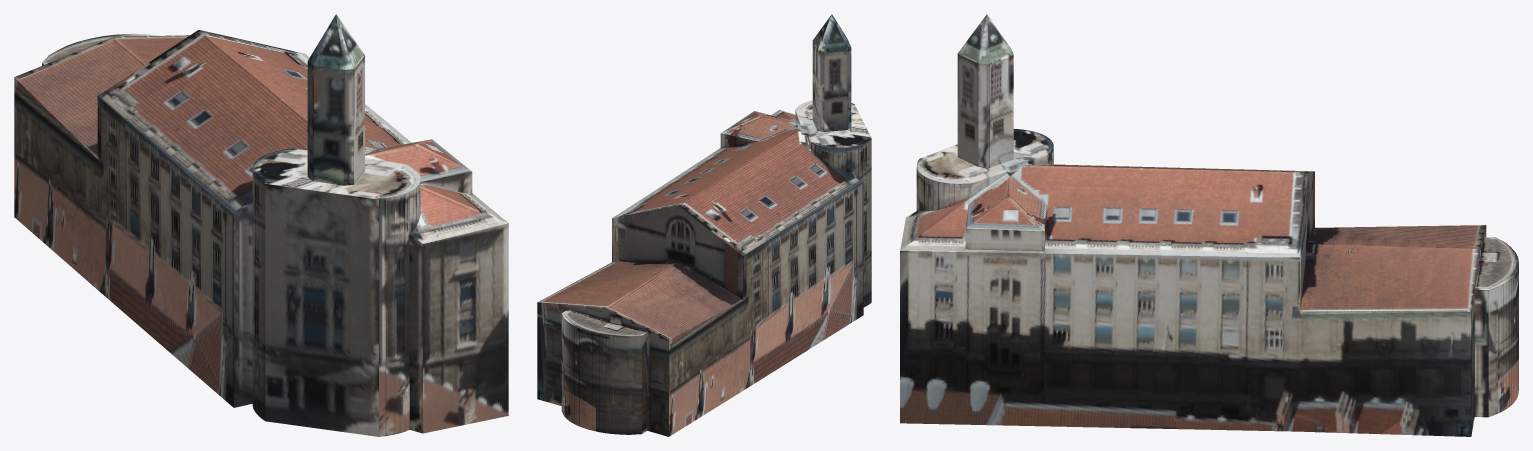
3 renders of one model, left to right at view 1: azimuth 30°, elevation 25°; view 2: azimuth 150°, elevation 25°; view 3: azimuth 270°, elevation 25°, orthographic. The views are drawn at different scales.
Parts seen in each view (by area): view 1: Z_UP; view 2: Z_UP; view 3: Z_UP.
Boxes of the visible parts, left/top/right/bottom form: Z_UP: left=14, top=14, right=508, bottom=436; Z_UP: left=537, top=14, right=871, bottom=436; Z_UP: left=900, top=14, right=1518, bottom=436.
Size of the model in its own units: 23.37 by 38.6 by 60.96.
2 materials, 1 textured.
